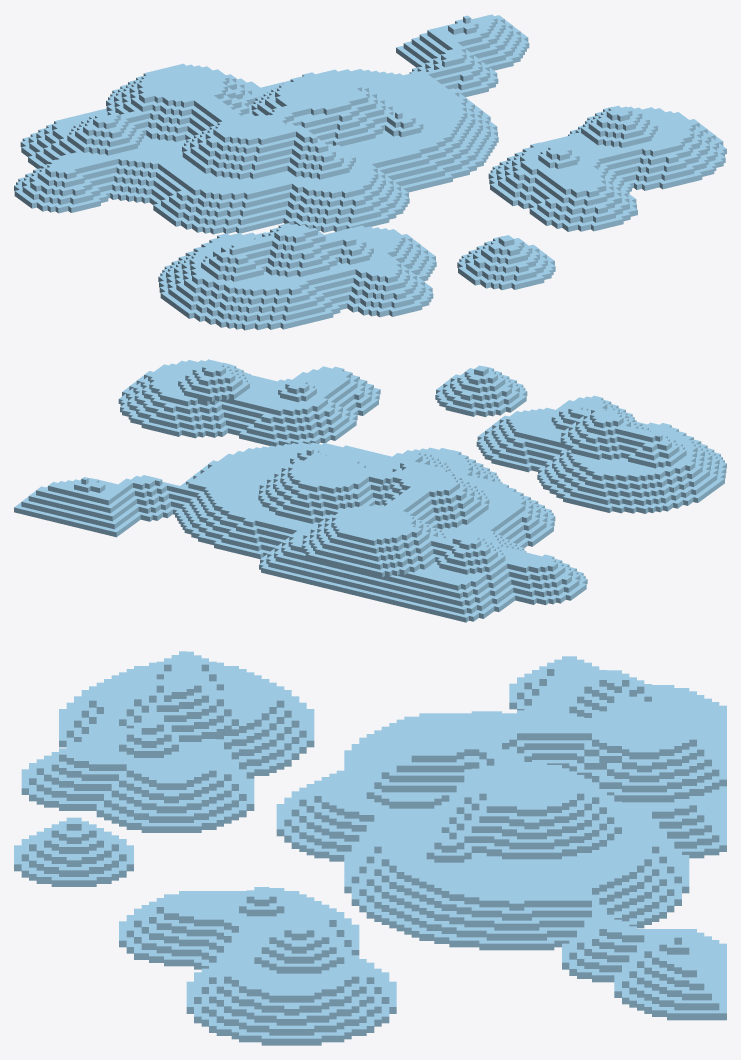
File: Snow_Environment_Deco_Tile_01-1.obj
3 renders of one model, top to bottom at view 1: azimuth 30°, elevation 25°; view 2: azimuth 150°, elevation 25°; view 3: azimuth 270°, elevation 25°, orthographic. The views are drawn at different scales.
Visible parts, largest first — view 1: Snow_Environment_Deco_Tile_01-1; view 2: Snow_Environment_Deco_Tile_01-1; view 3: Snow_Environment_Deco_Tile_01-1.
Boxes of the visible parts, left/top/right/bottom form: Snow_Environment_Deco_Tile_01-1: left=14, top=14, right=726, bottom=330; Snow_Environment_Deco_Tile_01-1: left=14, top=359, right=726, bottom=622; Snow_Environment_Deco_Tile_01-1: left=14, top=651, right=726, bottom=1045.
Bounding box in the file's own units: 117 × 10 × 95.
1 material, 1 textured.
